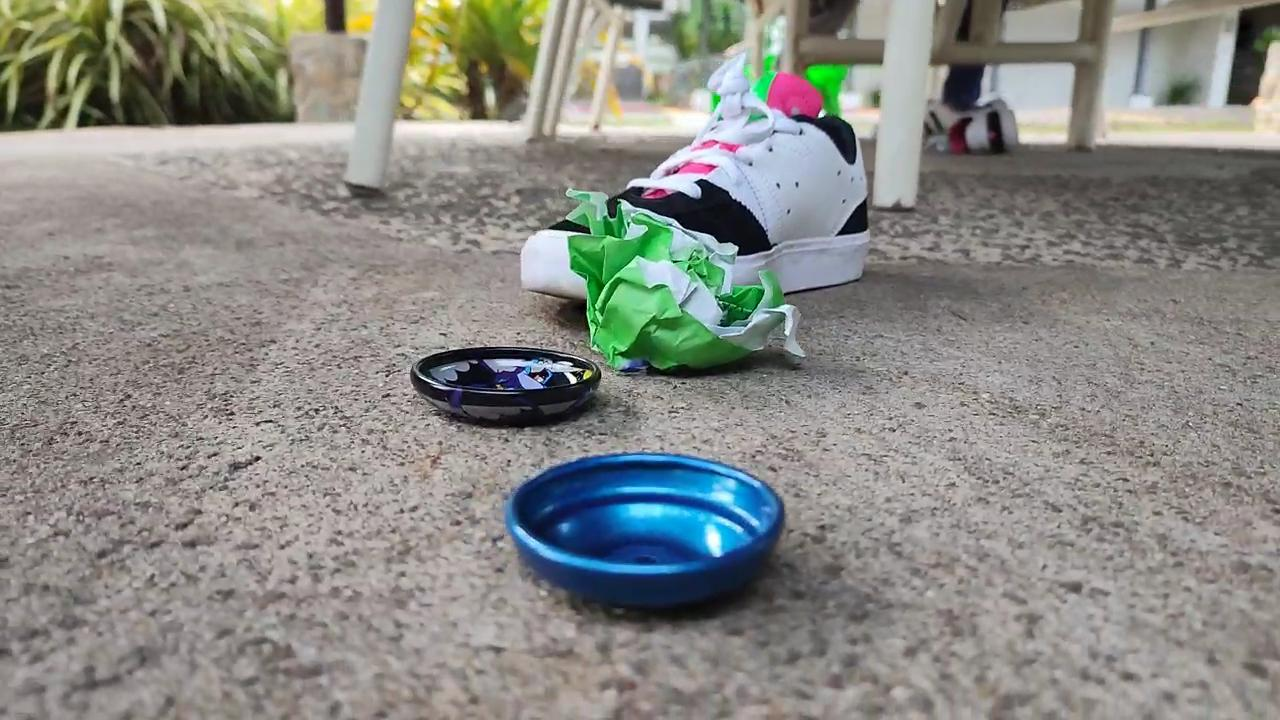Paper: (536, 161, 827, 387)
